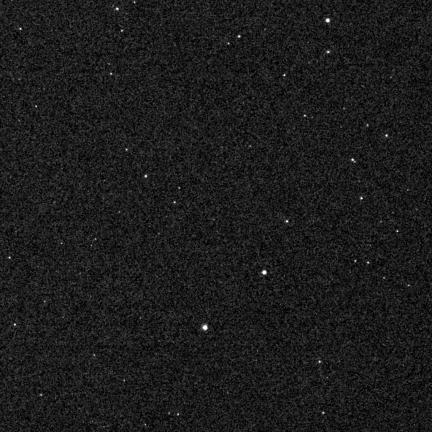blob: (202, 324, 207, 331), (262, 270, 266, 275), (326, 18, 330, 23), (360, 197, 364, 201), (238, 35, 241, 39)
